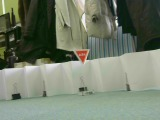stop: (72, 49, 91, 66)
